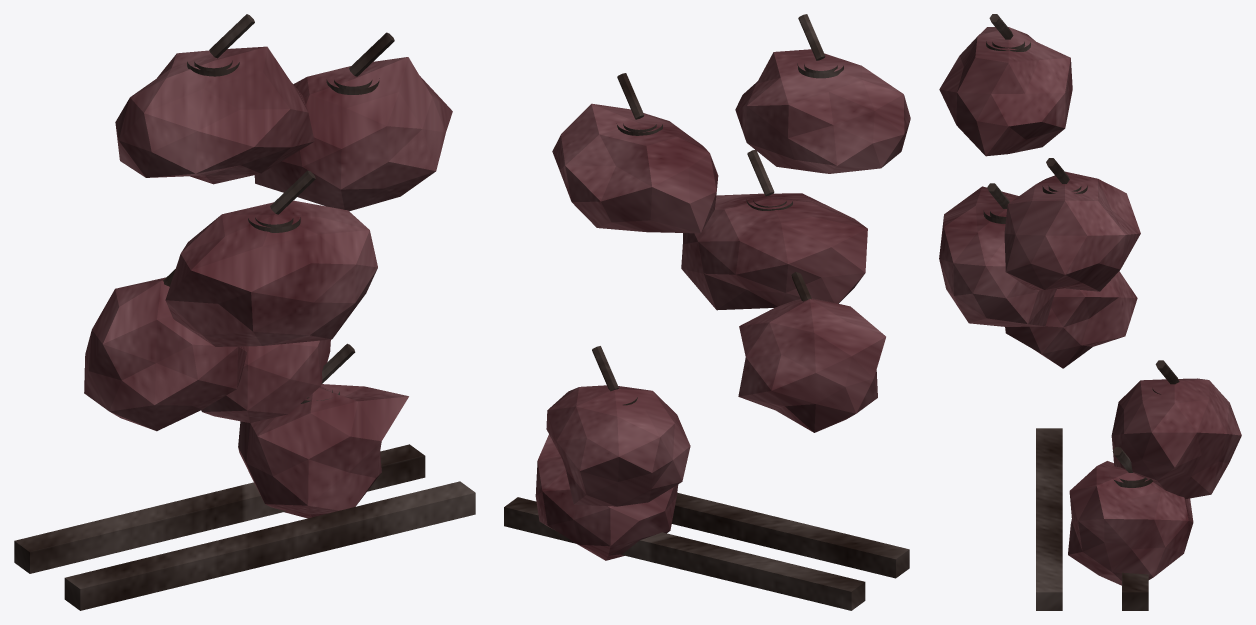
The model's file is 0813_sack_stack_13.glb.
3 renders of one model, left to right at view 1: azimuth 30°, elevation 25°; view 2: azimuth 150°, elevation 25°; view 3: azimuth 270°, elevation 25°, orthographic. The views are drawn at different scales.
Visible parts, largest first — view 1: cloth, wood_dark; view 2: cloth, wood_dark; view 3: cloth, wood_dark.
Part boxes in pixels (x1,y1,x2,y2): cloth: (84,46,452,518); wood_dark: (14,14,475,610); cloth: (535,49,910,560); wood_dark: (504,14,909,610); cloth: (939,27,1241,585); wood_dark: (983,14,1179,610).
Bounding box in the file's own units: 1.9 × 2.75 × 1.48.
2 materials, 2 textured.
